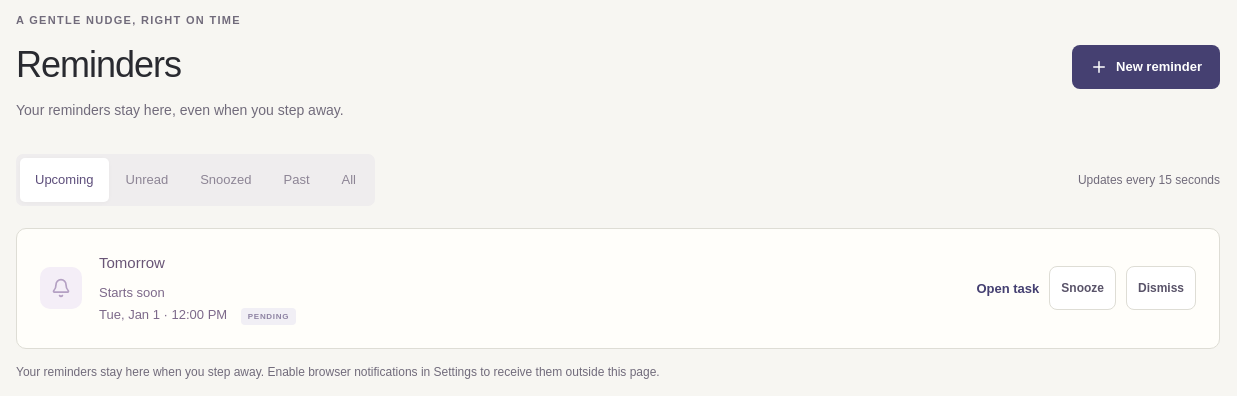
Test case: notification controls › separates upcoming from unread reminders
The image size is (1237, 396).
Check: the heading "Tomorrow" is shown, box [99, 254, 165, 271]
Check: the text "AI assignment" is not shown
Step 1. Click the button "Unread" → (147, 180), box [110, 158, 183, 202]
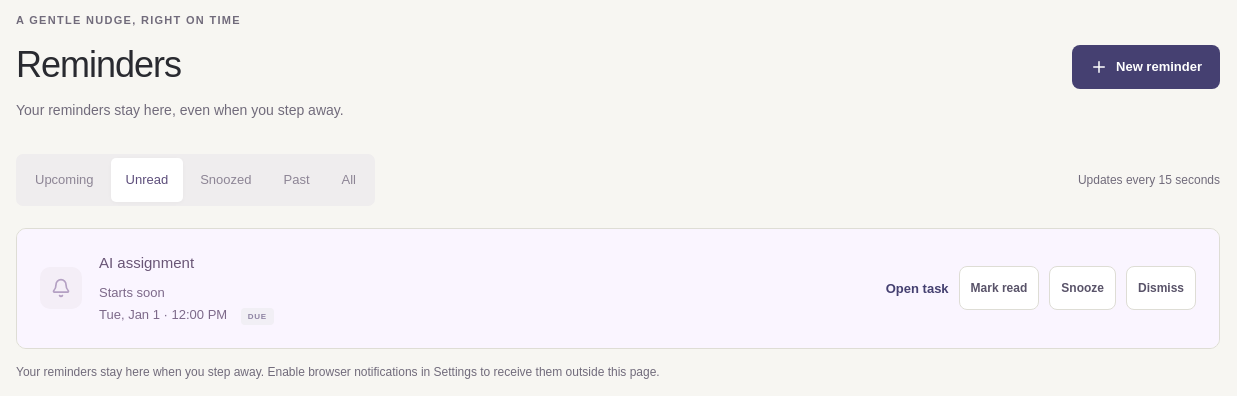
Check: the heading "AI assignment" is shown, box [99, 254, 194, 271]
Check: the heading "Tomorrow" is gone
